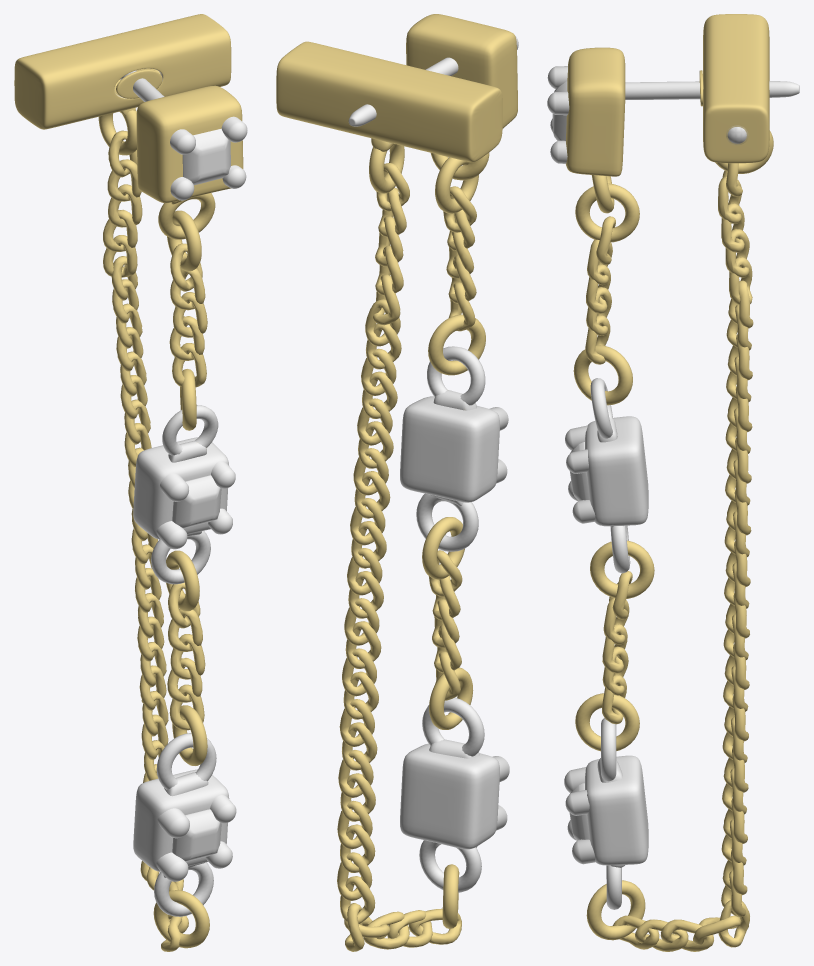
Rendered from earring_B09R4GC33X_stoneChain_gold.glb.
3 renders of one model, left to right at view 1: azimuth 30°, elevation 25°; view 2: azimuth 150°, elevation 25°; view 3: azimuth 270°, elevation 25°, orthographic. The views are drawn at different scales.
Parts seen in each view (by area): view 1: Cube.088; view 2: Cube.088; view 3: Cube.088.
Boxes of the visible parts, x1,y1,x2,y2 form: Cube.088: (14,14,247,951); Cube.088: (276,14,518,951); Cube.088: (547,14,799,951).
Size of the model in its own units: 0.00884 by 0.0381 by 0.00981.
Materials: 2 (2 with a texture image).
